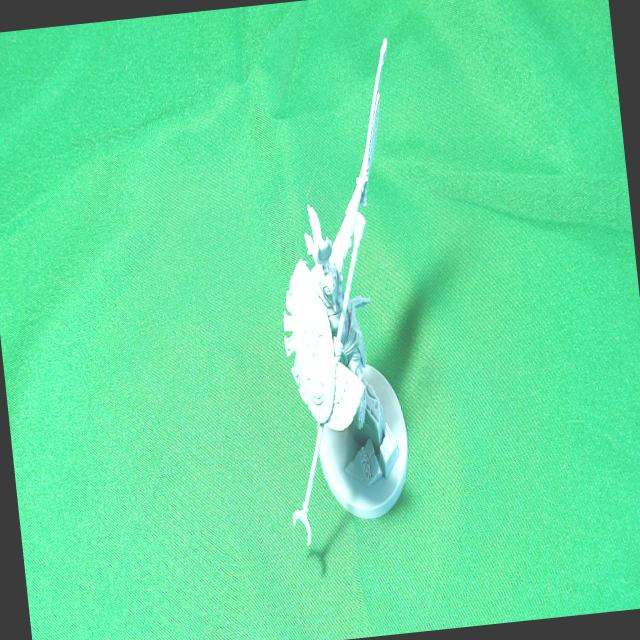isis: (205, 0, 475, 640)
